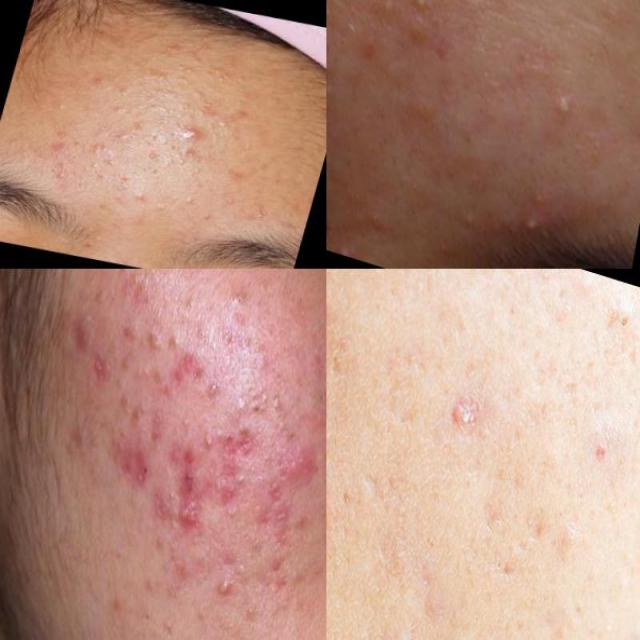8: (172, 122, 204, 152)
9: (202, 560, 238, 614), (543, 83, 583, 127), (514, 202, 544, 242), (371, 0, 401, 21), (407, 0, 433, 18)
blackheads: (163, 443, 256, 520), (58, 306, 104, 369), (118, 431, 159, 497), (162, 336, 206, 394), (278, 439, 324, 492), (166, 488, 207, 542), (216, 277, 252, 328), (103, 269, 152, 303), (141, 326, 172, 366)
dark spot: (196, 64, 236, 90)
